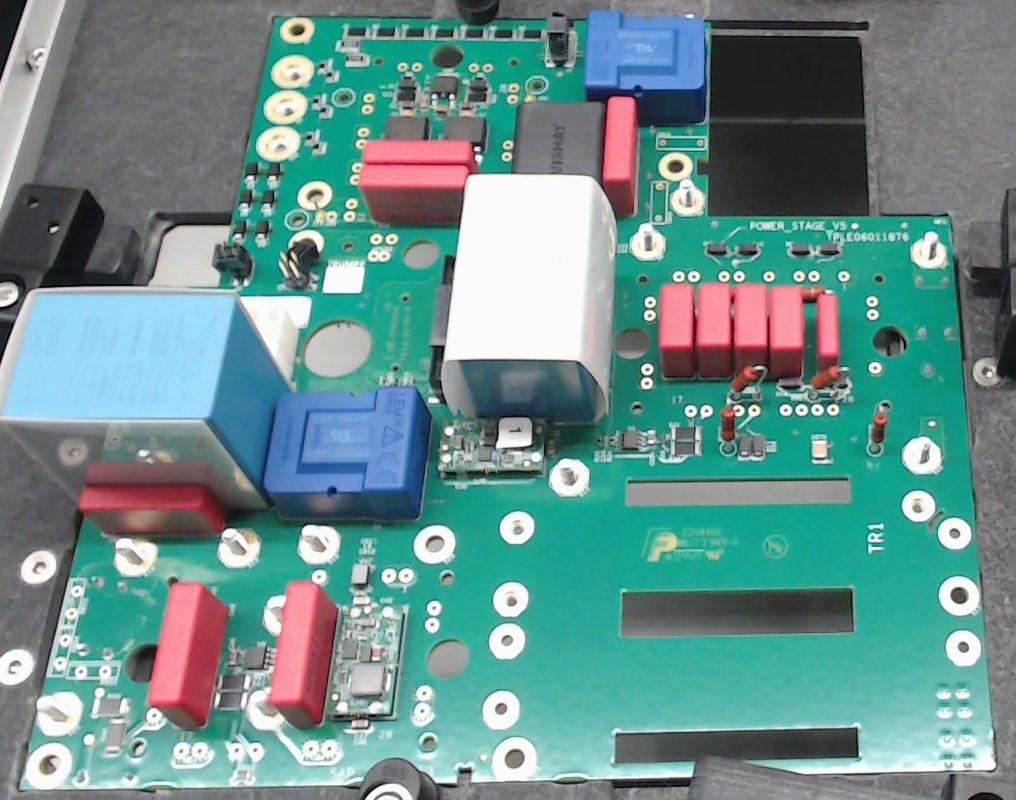comp1: (265, 385, 433, 517), (584, 11, 709, 125)
comp2: (148, 584, 225, 732), (265, 579, 338, 729), (76, 486, 228, 539), (358, 163, 470, 223), (603, 97, 639, 216), (658, 278, 696, 380), (768, 282, 805, 376), (697, 280, 732, 378), (733, 280, 769, 372), (359, 138, 476, 166), (816, 293, 839, 371)
comp3: (513, 99, 605, 177)
comp4: (1, 285, 295, 509), (444, 175, 618, 423)
